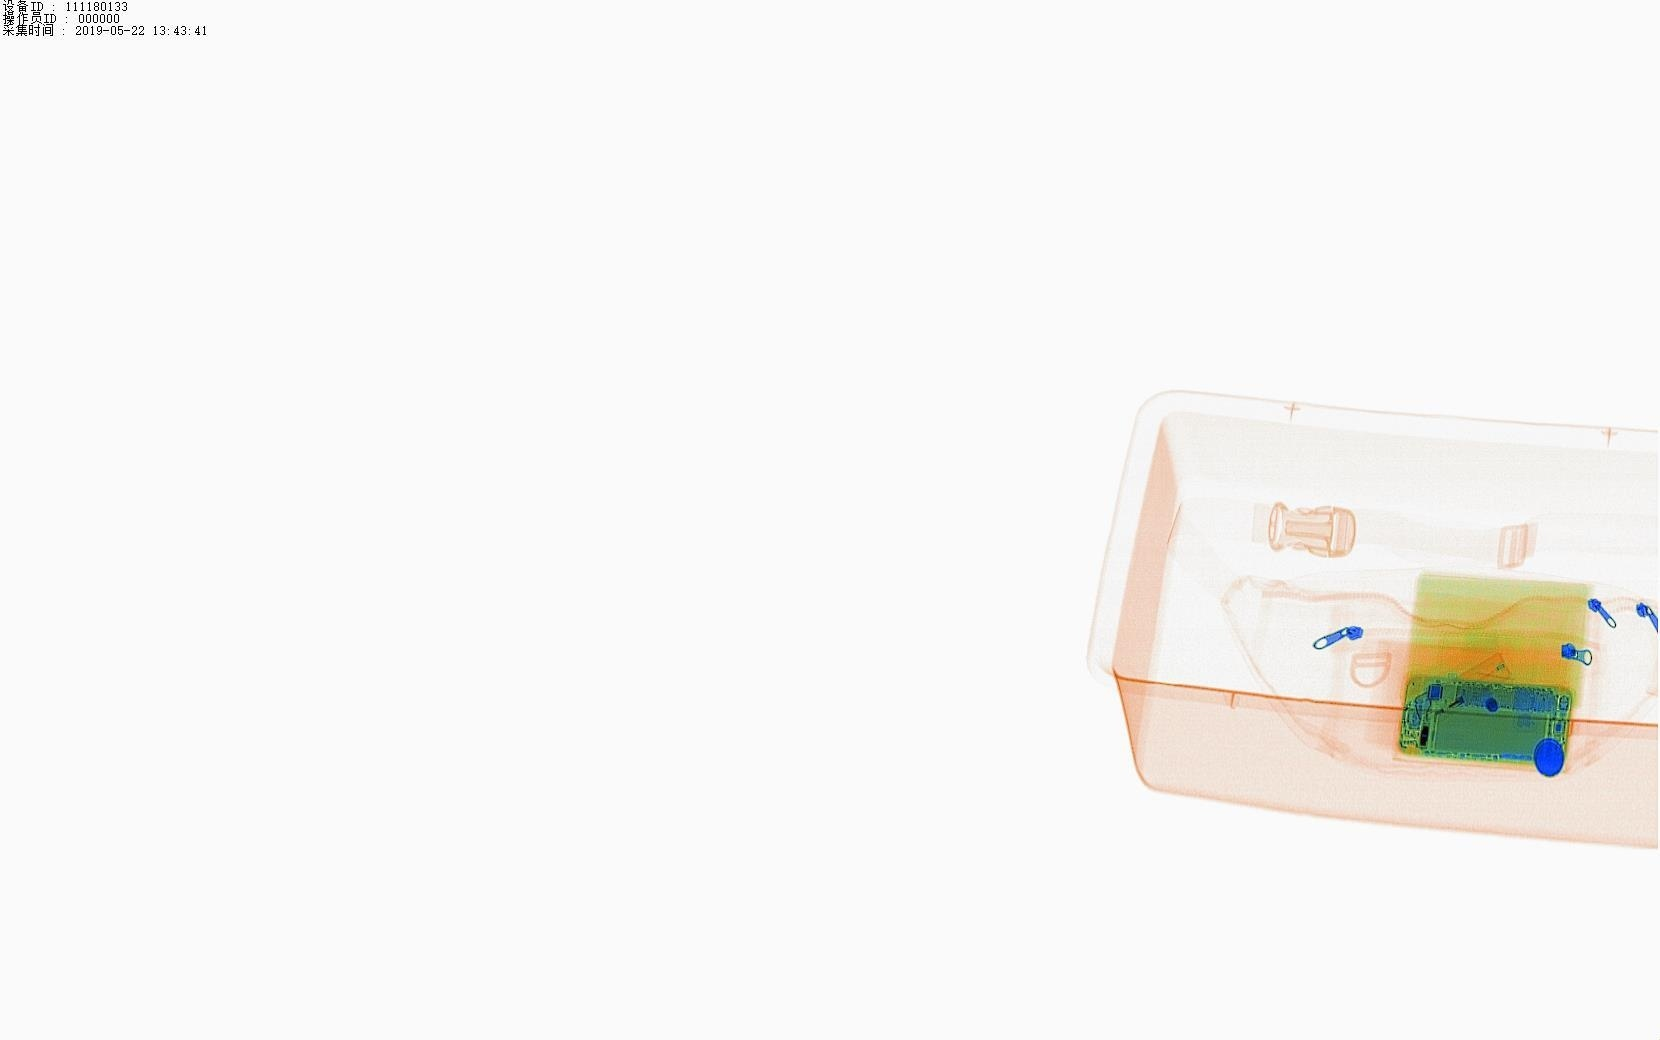NonmetallicFire: (1413, 646, 1520, 713)
